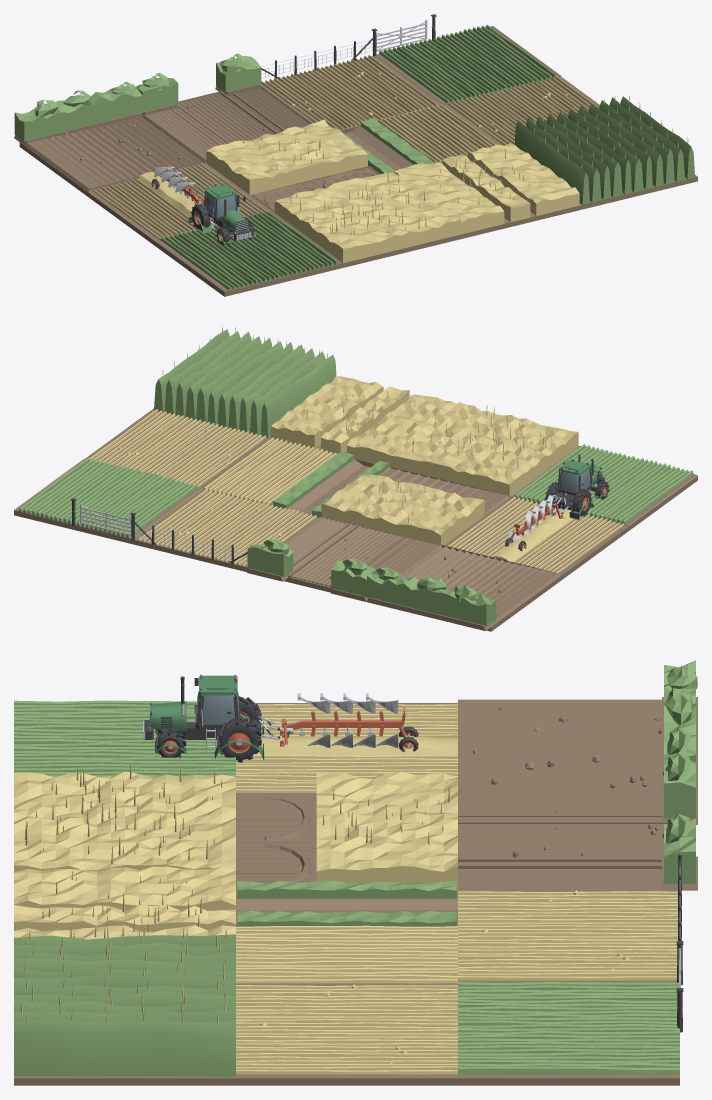
File: arable-fields-and-farm-machinery-field-grid-connector--22678607__16897.glb
3 renders of one model, top to bottom at view 1: azimuth 30°, elevation 25°; view 2: azimuth 150°, elevation 25°; view 3: azimuth 270°, elevation 25°, orthographic. The views are drawn at different scales.
Parts seen in each view (by area): view 1: 003-field-tile-standing-maize/1, 001-field-tile-standing-wheat/1, 002-field-tile-tramline/1, 008-field-tile-ploughed/0, 011-field-tile-young-crop/1, 005-field-tile-headland/1, 000-field-tile-young-crop/1, 010-field-tile-stubble/1, 009-field-tile-drilled/0, 004-field-tile-harvested-swath/1, 012-hedgerow-run/1, 007-field-tile-stubble/1 (+21 smaller); view 2: 003-field-tile-standing-maize/1, 001-field-tile-standing-wheat/1, 002-field-tile-tramline/1, 011-field-tile-young-crop/1, 005-field-tile-headland/1, 007-field-tile-stubble/1, 009-field-tile-drilled/0, 010-field-tile-stubble/1, 000-field-tile-young-crop/1, 008-field-tile-ploughed/0, 004-field-tile-harvested-swath/1, 006-field-tile-ditch-edge/1 (+18 smaller); view 3: 003-field-tile-standing-maize/1, 001-field-tile-standing-wheat/1, 011-field-tile-young-crop/1, 007-field-tile-stubble/1, 009-field-tile-drilled/0, 010-field-tile-stubble/1, 008-field-tile-ploughed/0, 005-field-tile-headland/1, 002-field-tile-tramline/1, 004-field-tile-harvested-swath/1, 006-field-tile-ditch-edge/1, 000-field-tile-young-crop/1 (+17 smaller).
Boxes of the visible parts, x1,y1,x2,y2 form: 003-field-tile-standing-maize/1: (514,96,694,204); 001-field-tile-standing-wheat/1: (274,170,461,263); 002-field-tile-tramline/1: (393,143,579,234); 008-field-tile-ploughed/0: (19,113,206,196); 011-field-tile-young-crop/1: (379,25,556,104); 005-field-tile-headland/1: (206,119,367,194); 000-field-tile-young-crop/1: (160,211,338,290); 010-field-tile-stubble/1: (261,55,437,129); 009-field-tile-drilled/0: (145,86,311,159); 004-field-tile-harvested-swath/1: (92,163,267,240); 012-hedgerow-run/1: (14,81,142,141); 007-field-tile-stubble/1: (448,76,599,145); 003-field-tile-standing-maize/1: (154,329,336,437); 001-field-tile-standing-wheat/1: (390,402,578,496); 002-field-tile-tramline/1: (271,376,456,466); 011-field-tile-young-crop/1: (18,457,197,538); 005-field-tile-headland/1: (321,474,484,545); 007-field-tile-stubble/1: (90,409,266,487); 009-field-tile-drilled/0: (284,517,439,592); 010-field-tile-stubble/1: (138,488,316,567); 000-field-tile-young-crop/1: (514,444,693,524); 008-field-tile-ploughed/0: (401,544,560,631); 004-field-tile-harvested-swath/1: (448,496,624,573); 006-field-tile-ditch-edge/1: (203,437,336,505); 003-field-tile-standing-maize/1: (14,934,235,1076); 001-field-tile-standing-wheat/1: (14,763,235,871); 011-field-tile-young-crop/1: (458,982,679,1074); 007-field-tile-stubble/1: (236,984,457,1074); 009-field-tile-drilled/0: (458,794,667,890); 010-field-tile-stubble/1: (458,890,678,980); 008-field-tile-ploughed/0: (458,699,661,794); 005-field-tile-headland/1: (316,771,457,890); 002-field-tile-tramline/1: (14,866,235,939); 004-field-tile-harvested-swath/1: (236,703,457,792); 006-field-tile-ditch-edge/1: (236,925,457,983); 000-field-tile-young-crop/1: (14,700,235,777).
Bounding box in the file's own units: 32 × 3.19 × 24.65.
